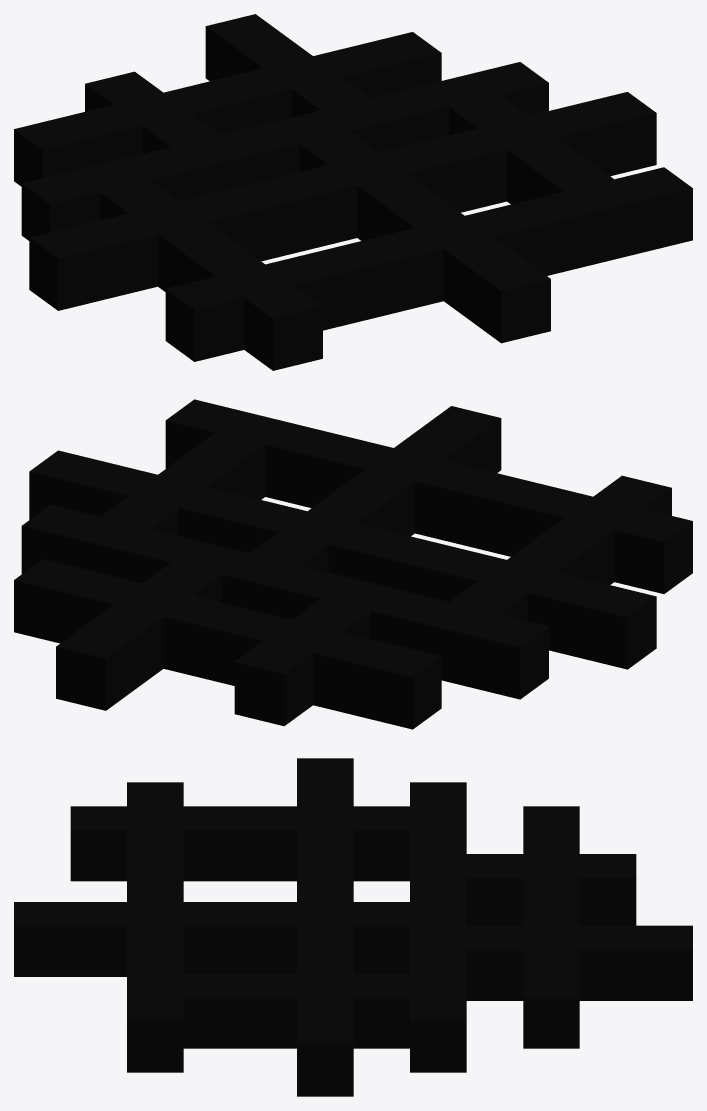
The model's file is city_grid.glb.
The picture shows the model from 3 angles, top to bottom: view 1: azimuth 30°, elevation 25°; view 2: azimuth 150°, elevation 25°; view 3: azimuth 270°, elevation 25°; orthographic projection.
Visible parts, largest first — view 1: grid; view 2: grid; view 3: grid.
Part boxes in pixels (x1,y1,x2,y2): grid: [14, 14, 692, 370]; grid: [14, 399, 692, 729]; grid: [14, 758, 692, 1096].
Size of the model in its own units: 0.75 by 0.0625 by 0.75.
1 material, 1 textured.
